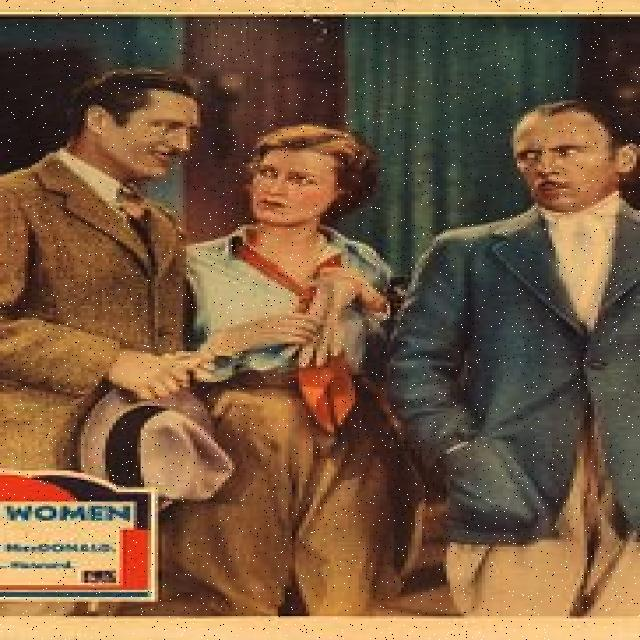movie-judul: (2, 477, 166, 602)
picture: (9, 15, 634, 615)
